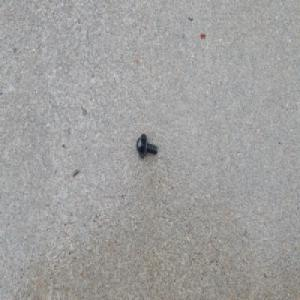BoltWasher: (136, 132, 157, 159)
